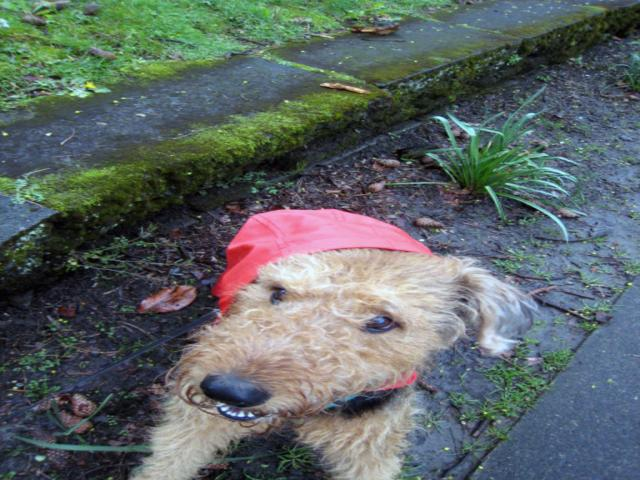Dog: (129, 209, 536, 480)
